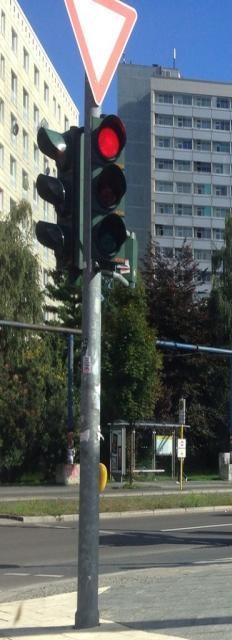red_light: (86, 115, 128, 262)
